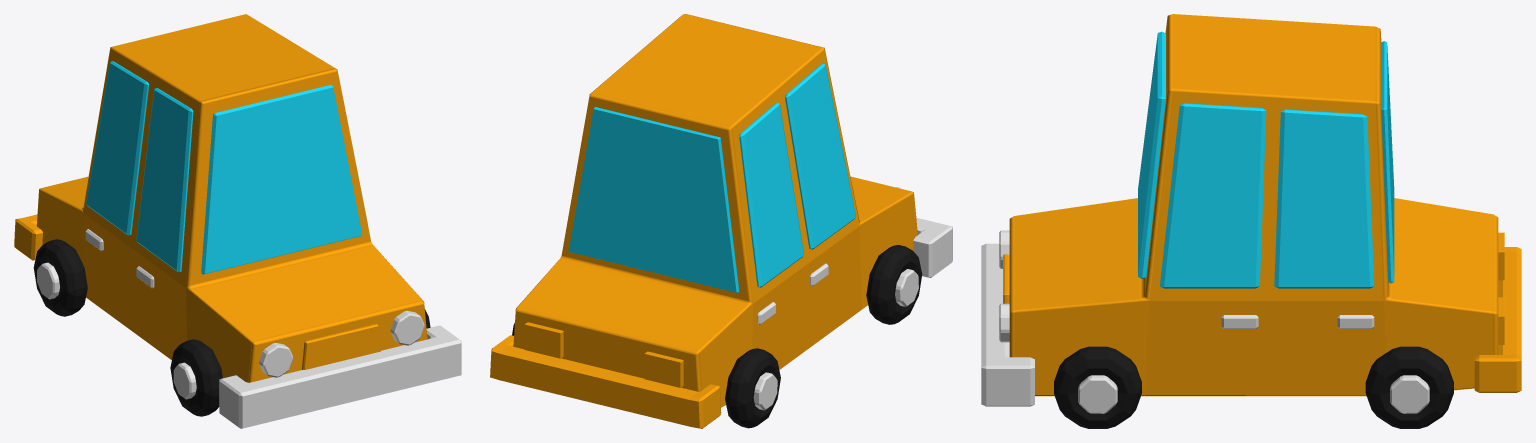
Rendered from low_poly_car_model.glb.
3 renders of one model, left to right at view 1: azimuth 30°, elevation 25°; view 2: azimuth 150°, elevation 25°; view 3: azimuth 270°, elevation 25°, orthographic. The views are drawn at different scales.
Visible parts, largest first — view 1: Plane_11, Plane.003_4, Plane.004_5, Plane.001_2, Torus_10, Plane.007_8, Cylinder_0, Cylinder.001_1, Plane.002_3, Plane.006_7; view 2: Plane_11, Plane.005_6, Plane.004_5, Plane.002_3, Torus_10, Plane.008_9, Plane.001_2, Cylinder.001_1, Plane.006_7; view 3: Plane_11, Plane.004_5, Torus_10, Plane.001_2, Plane.002_3, Plane.003_4, Cylinder.001_1, Plane.005_6, Plane.006_7, Cylinder_0, Plane.008_9.
Boxes of the visible parts, x1,y1,x2,y2 form: Plane_11: [36, 14, 427, 382]; Plane.003_4: [201, 85, 362, 274]; Plane.004_5: [86, 61, 367, 271]; Plane.001_2: [219, 325, 461, 428]; Torus_10: [33, 239, 430, 416]; Plane.007_8: [301, 324, 380, 369]; Cylinder_0: [259, 311, 424, 377]; Cylinder.001_1: [37, 262, 196, 399]; Plane.002_3: [14, 214, 42, 260]; Plane.006_7: [85, 229, 154, 288]; Plane_11: [513, 14, 917, 407]; Plane.005_6: [568, 107, 739, 292]; Plane.004_5: [739, 63, 855, 287]; Plane.002_3: [490, 335, 721, 428]; Torus_10: [512, 245, 922, 428]; Plane.008_9: [524, 322, 683, 387]; Plane.001_2: [913, 218, 952, 277]; Cylinder.001_1: [753, 269, 918, 410]; Plane.006_7: [757, 263, 828, 324]; Plane_11: [1009, 14, 1498, 396]; Plane.004_5: [1160, 103, 1374, 288]; Torus_10: [1054, 346, 1453, 428]; Plane.001_2: [981, 243, 1034, 406]; Plane.002_3: [1474, 247, 1521, 392]; Plane.003_4: [1138, 31, 1165, 278]; Cylinder.001_1: [1078, 375, 1429, 413]; Plane.005_6: [1381, 41, 1394, 283]; Plane.006_7: [1221, 315, 1374, 328]; Cylinder_0: [999, 230, 1009, 342]; Plane.008_9: [1498, 232, 1504, 344].
Size of the model in its own units: 3.32 by 3.69 by 5.69.
